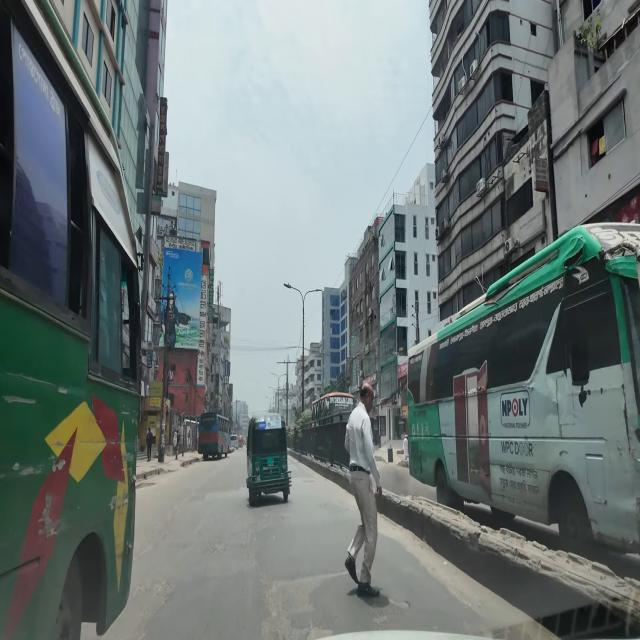person: (344, 383, 382, 598)
